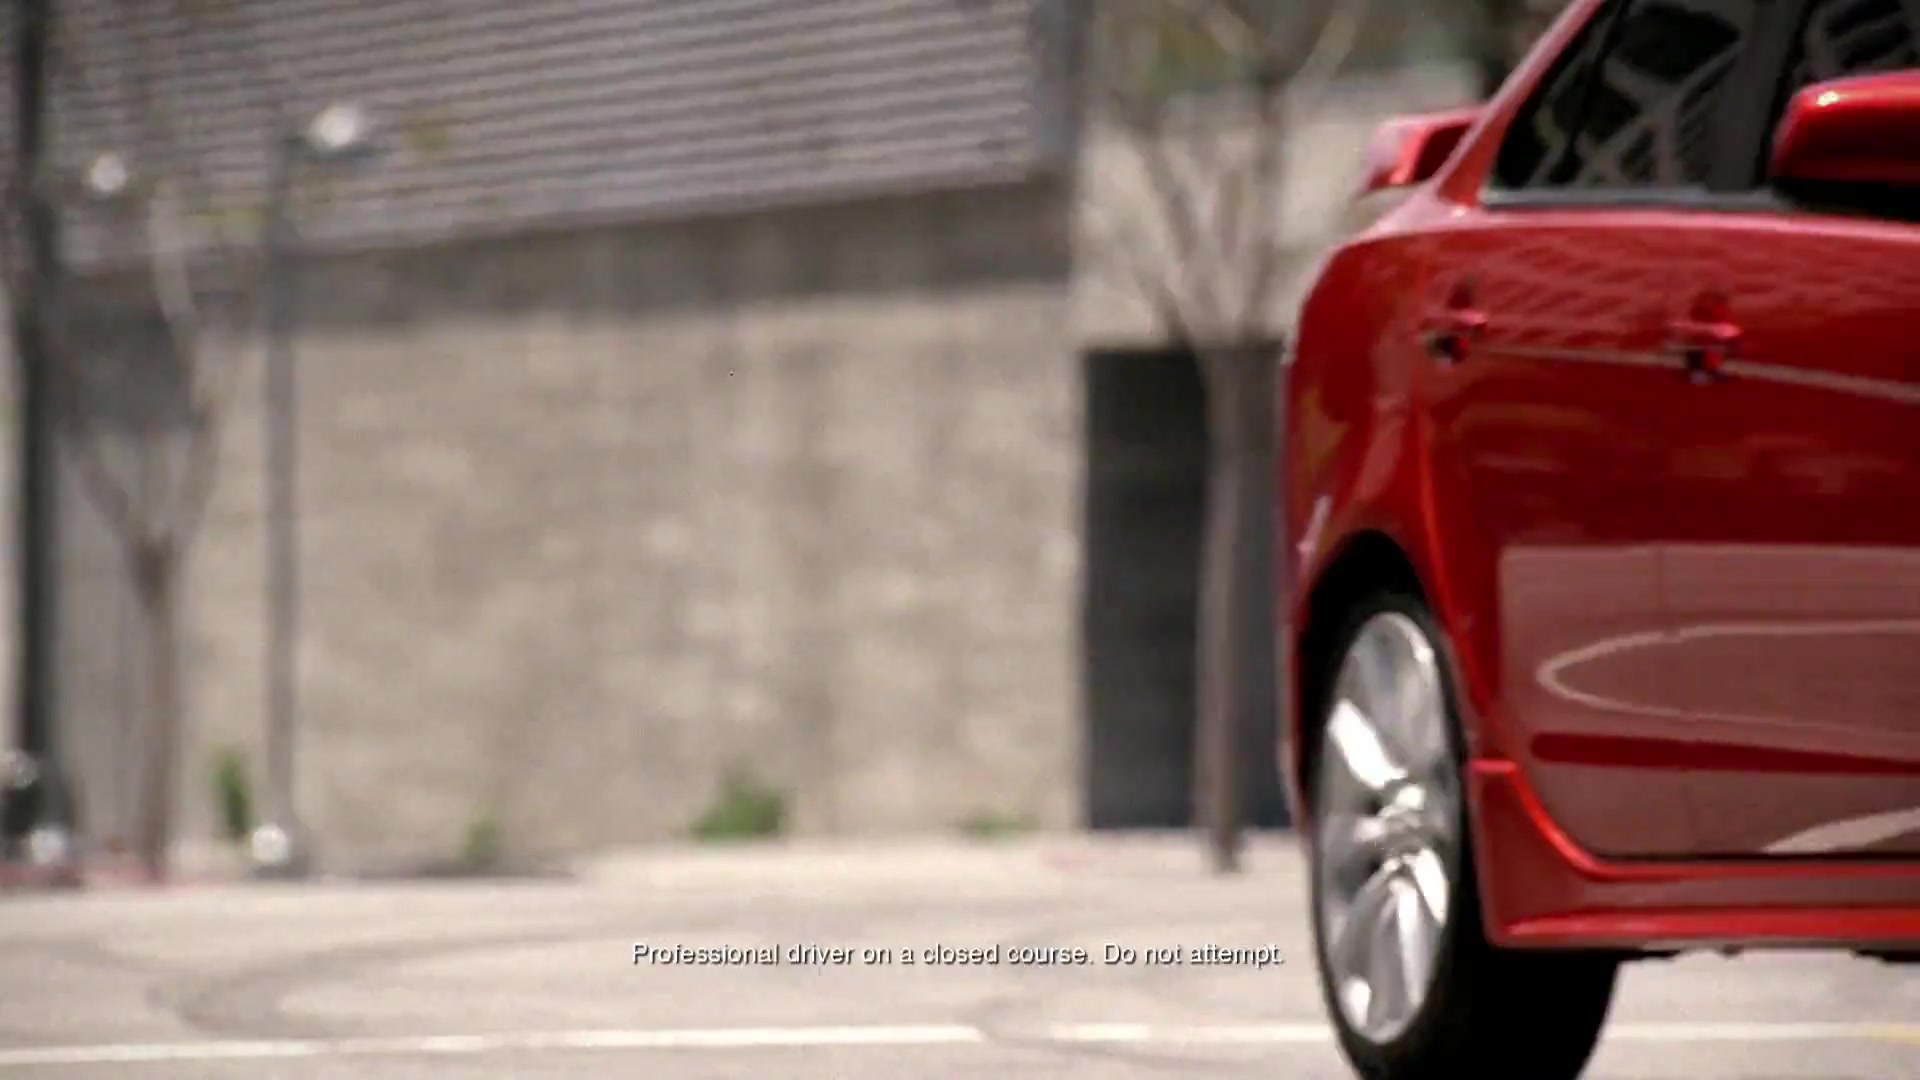car: (1265, 3, 1920, 1080)
